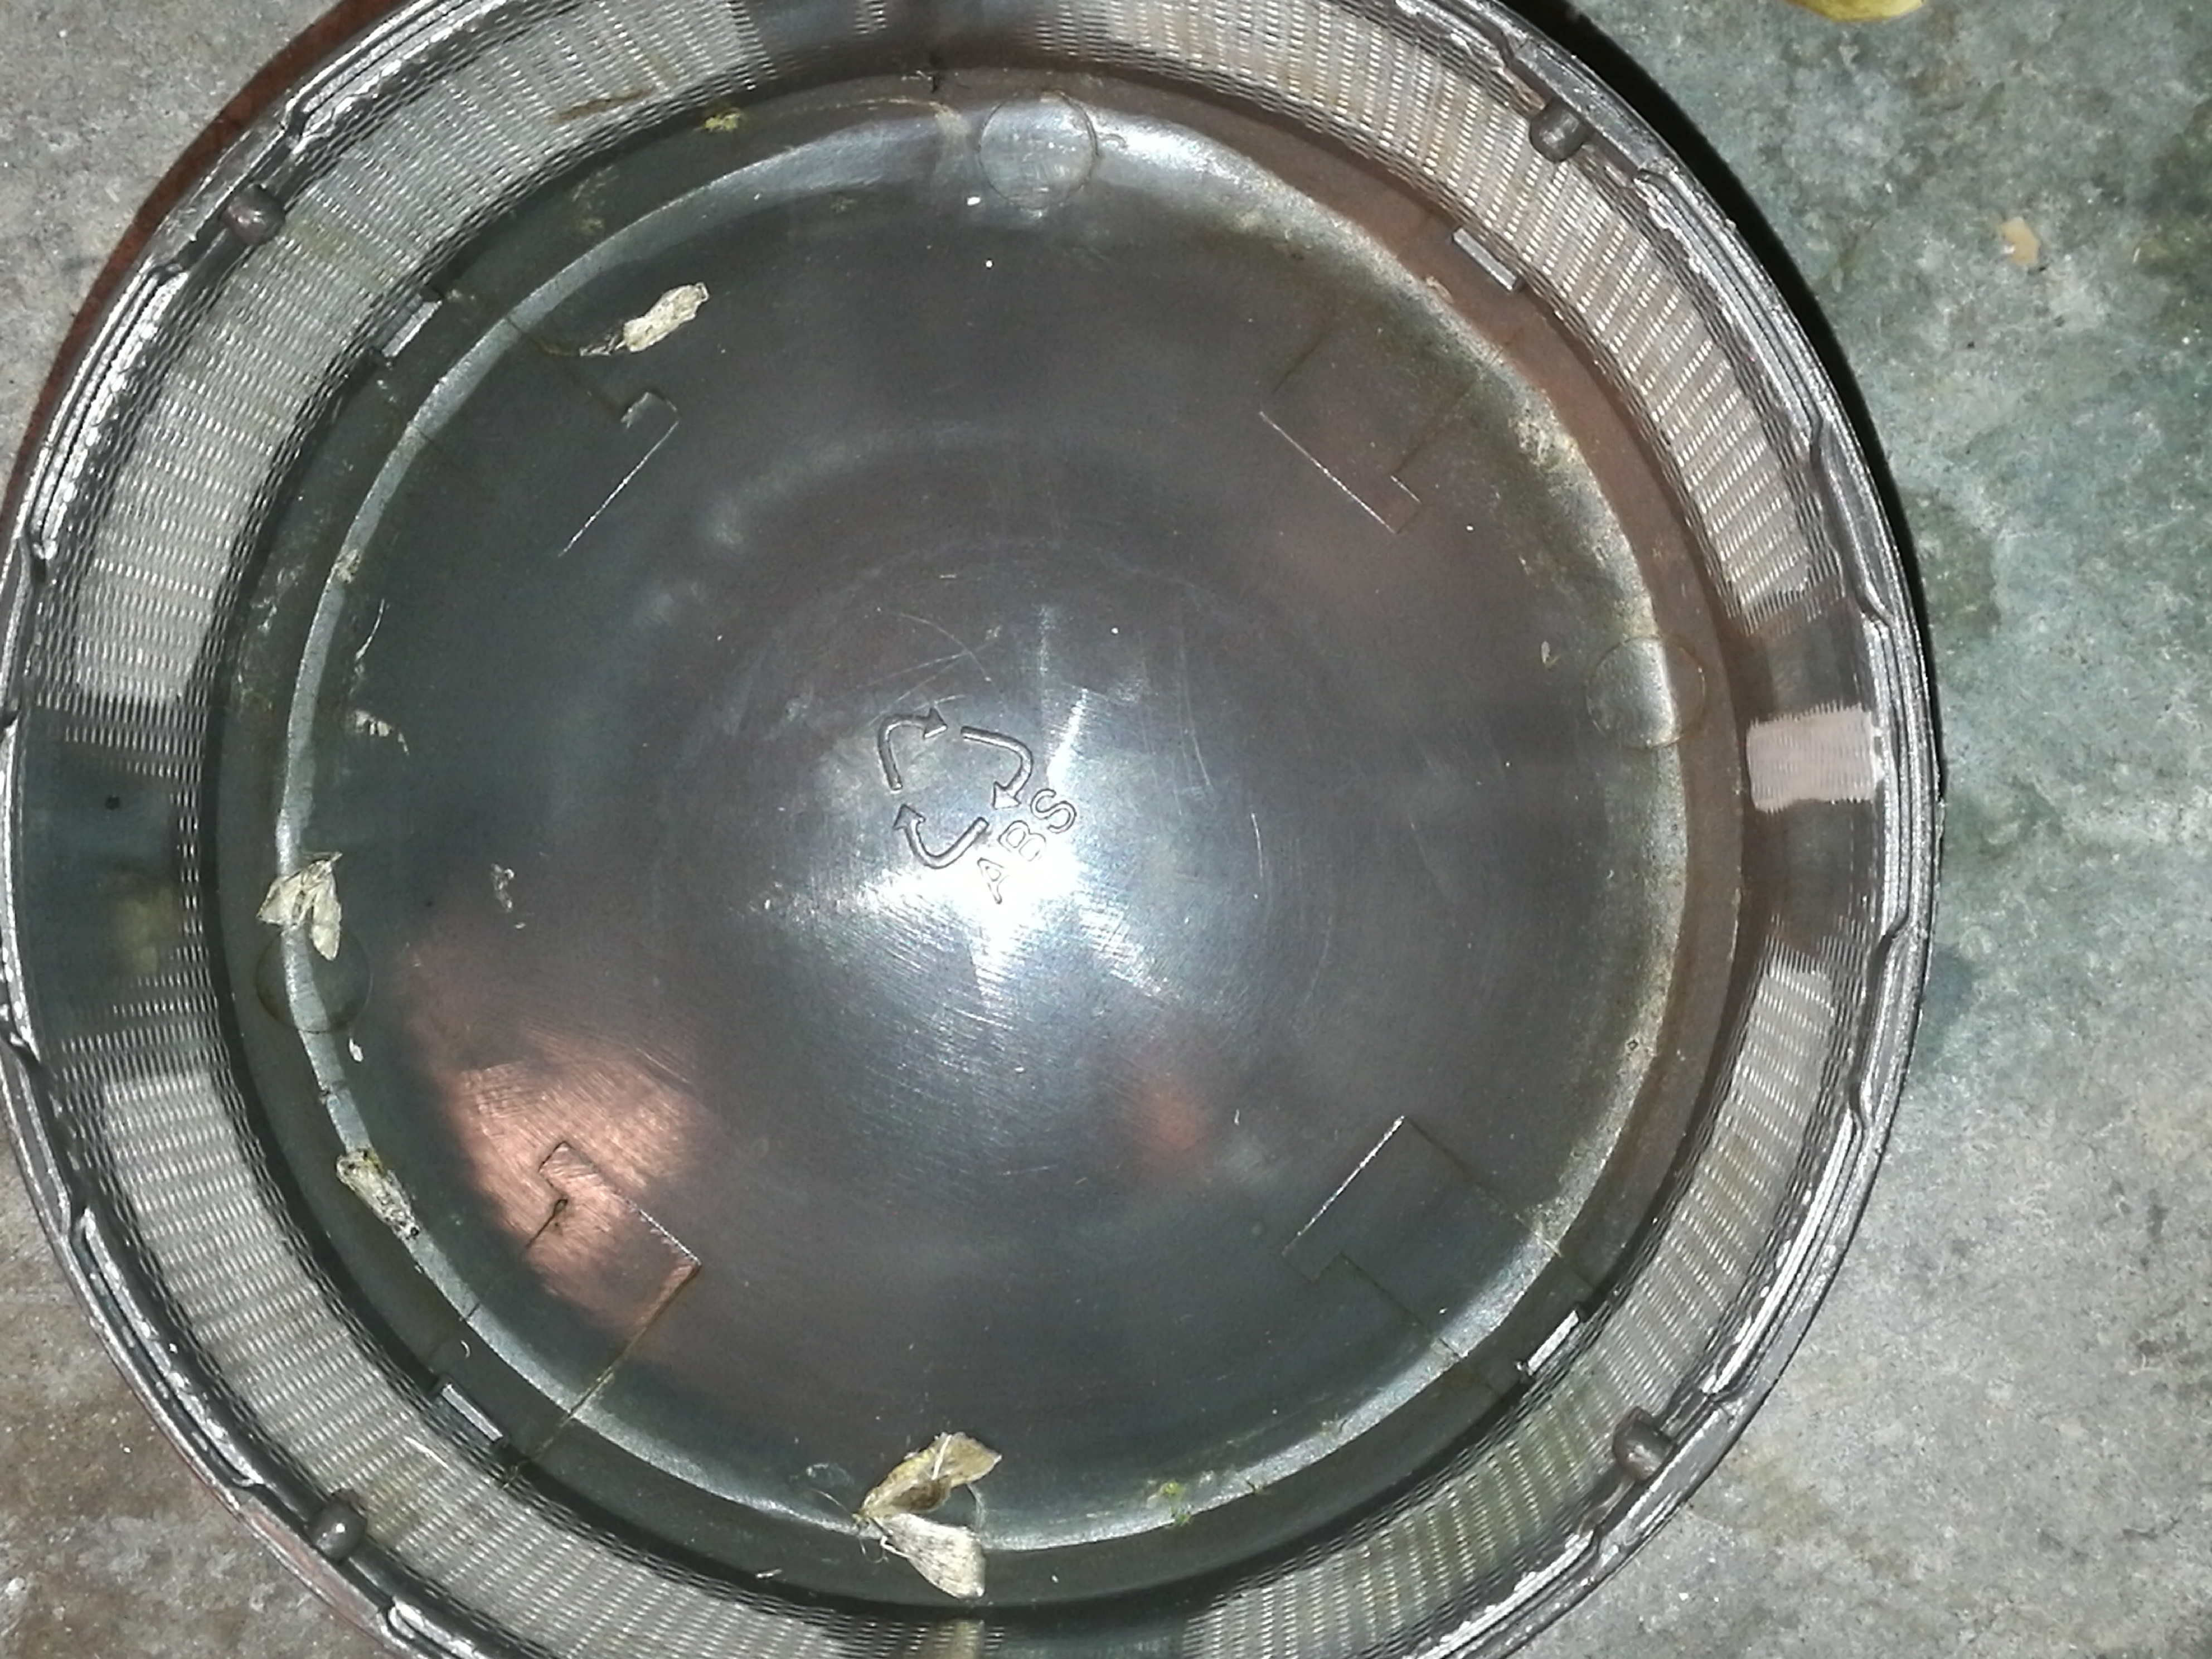mosquito: (338, 1148, 416, 1236), (610, 284, 709, 352)
moth: (853, 1431, 1000, 1596), (254, 850, 343, 962)
